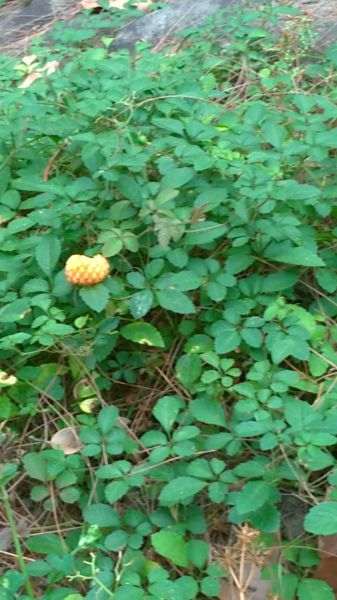eggs: (58, 246, 115, 290)
